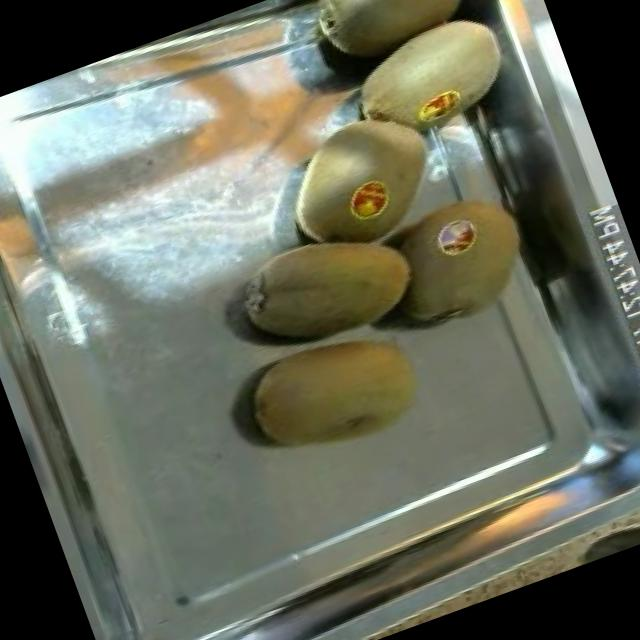Fruit: (223, 297, 452, 486), (214, 194, 440, 381), (252, 77, 464, 260), (332, 1, 541, 170), (287, 0, 497, 76)
